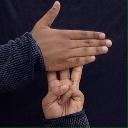hand: (30, 0, 112, 72), (42, 64, 86, 120)
